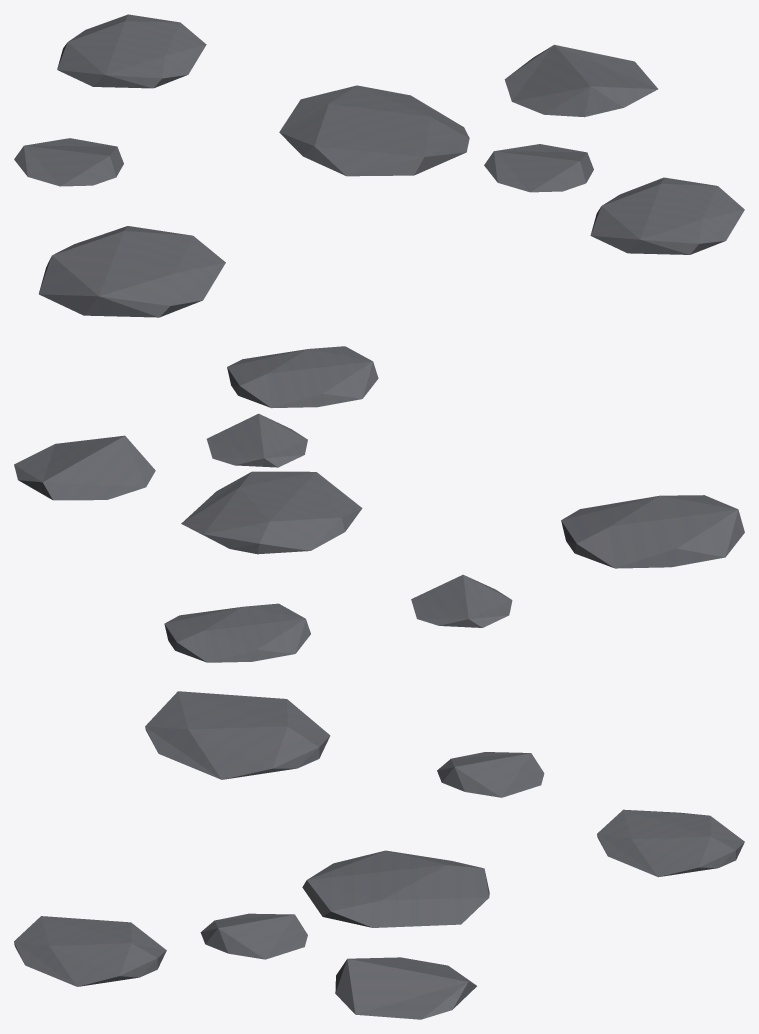
The model's file is Road_Rocks_1.fbx.
The picture shows the model from 3 angles, top to bottom: view 1: azimuth 30°, elevation 25°; view 2: azimuth 150°, elevation 25°; view 3: azimuth 270°, elevation 25°; orthographic projection. The views are drawn at different scales.
Visible parts, largest first — view 1: polySurface10319; view 2: polySurface10319; view 3: polySurface10319.
Part boxes in pixels (<box>): polySurface10319: <box>14,14,744,317</box>; polySurface10319: <box>14,346,744,662</box>; polySurface10319: <box>14,691,744,1019</box>.
Bounding box in the file's own units: 178 × 5.81 × 171.
